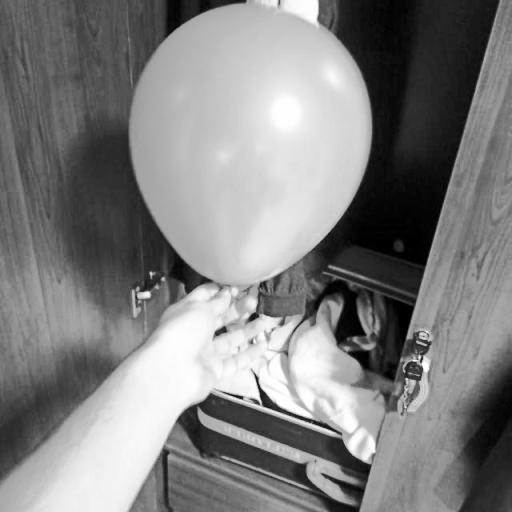balloon: (129, 2, 372, 287)
